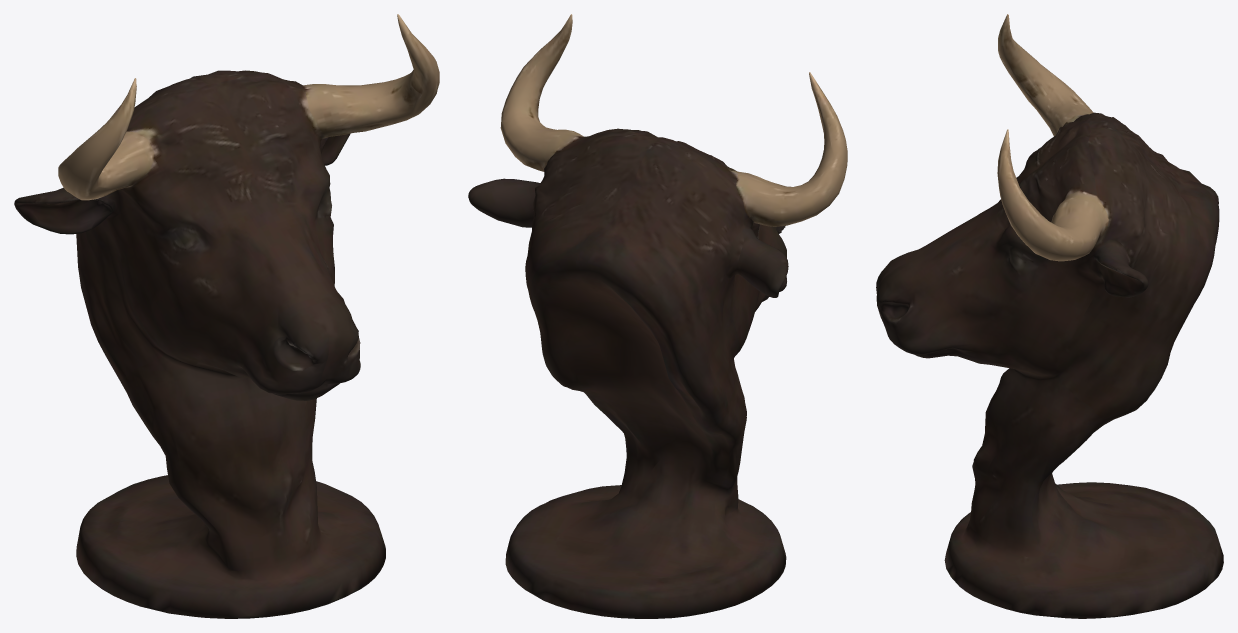
File: bull_head.glb
The picture shows the model from 3 angles, left to right: view 1: azimuth 30°, elevation 25°; view 2: azimuth 150°, elevation 25°; view 3: azimuth 270°, elevation 25°; orthographic projection. The views are drawn at different scales.
Parts seen in each view (by area): view 1: bull_head; view 2: bull_head; view 3: bull_head.
Boxes of the visible parts, x1,y1,x2,y2 form: bull_head: (14, 14, 439, 618); bull_head: (468, 14, 847, 618); bull_head: (876, 14, 1223, 618).
Bounding box in the file's own units: 0.3063 × 0.433 × 0.2808.
1 material, 1 textured.
